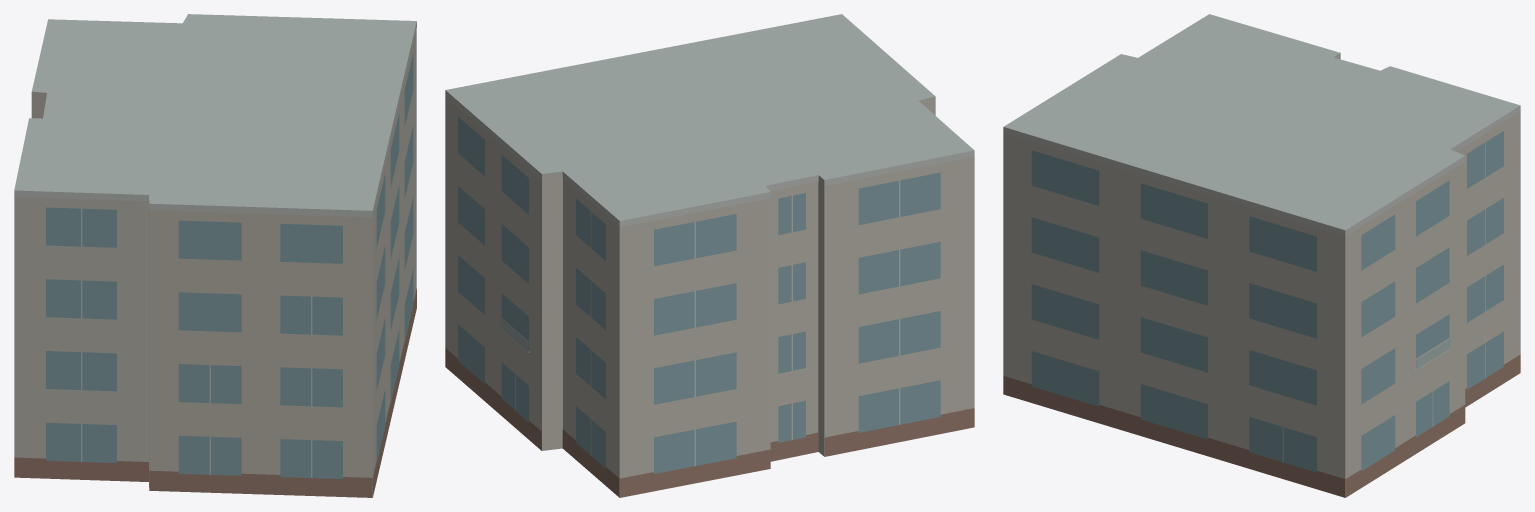
Rendered from survey-upis-32783461.glb.
The picture shows the model from 3 angles, left to right: view 1: azimuth 30°, elevation 25°; view 2: azimuth 150°, elevation 25°; view 3: azimuth 270°, elevation 25°; orthographic projection. The views are drawn at different scales.
Parts seen in each view (by area): view 1: survey-upis-32783461.tmp; view 2: survey-upis-32783461.tmp; view 3: survey-upis-32783461.tmp.
Boxes of the visible parts, <box> form: survey-upis-32783461.tmp: <box>14,14,416,497</box>; survey-upis-32783461.tmp: <box>445,14,974,497</box>; survey-upis-32783461.tmp: <box>1003,14,1520,497</box>.
Size of the model in its own units: 18.74 by 10.8 by 18.93.
